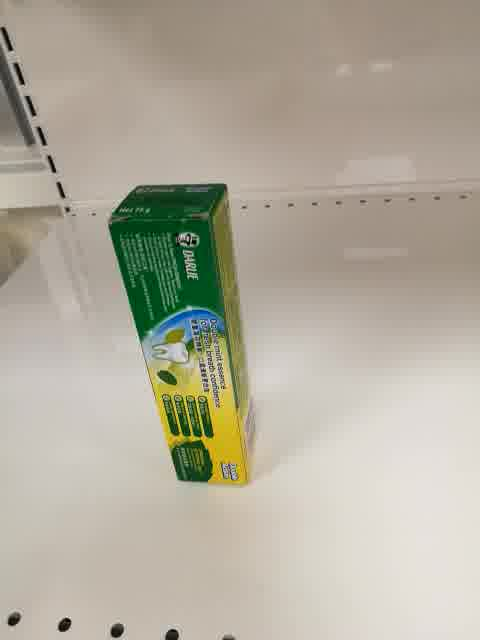toothpaste: (108, 183, 253, 488)
